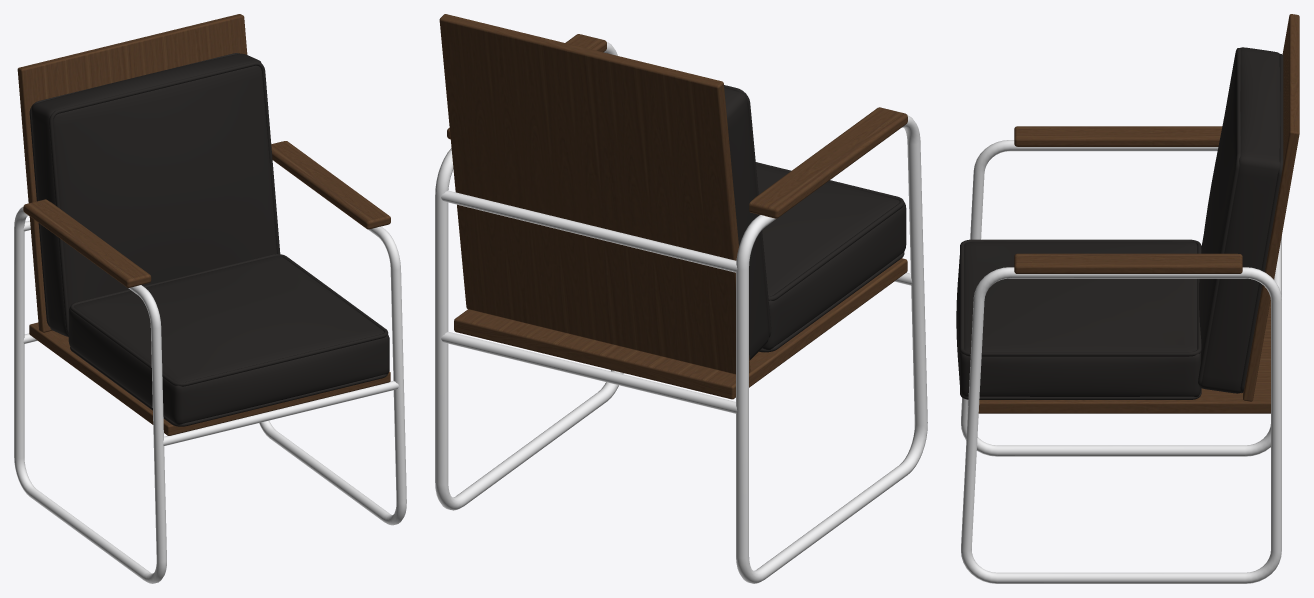
Rendered from desk_chair.gltf.
3 renders of one model, left to right at view 1: azimuth 30°, elevation 25°; view 2: azimuth 150°, elevation 25°; view 3: azimuth 270°, elevation 25°, orthographic. The views are drawn at different scales.
Visible parts, largest first — view 1: DeskChair_BackCushion, DeskChair_SeatCushion, DeskChair_BackPanel, DeskChair_Frame_L, DeskChair_Frame_R, DeskChair_SeatBoard, DeskChair_ArmCap_L, DeskChair_ArmCap_R, DeskChair_BackCushion_Piping1, DeskChair_SeatCushion_Piping0, DeskChair_RailFront, DeskChair_SeatCushion_Piping1 (+1 smaller); view 2: DeskChair_BackPanel, DeskChair_SeatCushion, DeskChair_Frame_L, DeskChair_SeatBoard, DeskChair_Frame_R, DeskChair_ArmCap_L, DeskChair_BackCushion, DeskChair_RailBack, DeskChair_RailRear, DeskChair_SeatCushion_Piping0, DeskChair_BackCushion_Piping1, DeskChair_SeatCushion_Piping1; view 3: DeskChair_SeatCushion, DeskChair_BackCushion, DeskChair_Frame_R, DeskChair_Frame_L, DeskChair_SeatBoard, DeskChair_BackPanel, DeskChair_ArmCap_R, DeskChair_ArmCap_L, DeskChair_SeatCushion_Piping0, DeskChair_BackCushion_Piping1, DeskChair_BackCushion_Piping0, DeskChair_SeatCushion_Piping1.
Boxes of the visible parts, x1,y1,x2,y2 form: DeskChair_BackCushion: [31, 53, 276, 336]; DeskChair_SeatCushion: [68, 256, 389, 424]; DeskChair_BackPanel: [17, 14, 247, 332]; DeskChair_Frame_L: [14, 206, 166, 583]; DeskChair_Frame_R: [259, 226, 406, 525]; DeskChair_SeatBoard: [29, 322, 390, 435]; DeskChair_ArmCap_L: [23, 199, 151, 287]; DeskChair_ArmCap_R: [271, 141, 390, 229]; DeskChair_BackCushion_Piping1: [49, 61, 280, 334]; DeskChair_SeatCushion_Piping0: [70, 254, 388, 386]; DeskChair_RailFront: [163, 380, 399, 445]; DeskChair_SeatCushion_Piping1: [70, 347, 387, 426]; DeskChair_BackPanel: [439, 14, 750, 374]; DeskChair_SeatCushion: [756, 164, 906, 349]; DeskChair_Frame_L: [736, 115, 927, 583]; DeskChair_SeatBoard: [454, 258, 907, 399]; DeskChair_Frame_R: [435, 42, 623, 510]; DeskChair_ArmCap_L: [749, 107, 907, 218]; DeskChair_BackCushion: [724, 88, 768, 360]; DeskChair_RailBack: [441, 190, 737, 272]; DeskChair_RailRear: [441, 331, 737, 413]; DeskChair_SeatCushion_Piping0: [755, 162, 904, 300]; DeskChair_BackCushion_Piping1: [724, 85, 771, 337]; DeskChair_SeatCushion_Piping1: [759, 252, 904, 352]; DeskChair_SeatCushion: [956, 241, 1200, 396]; DeskChair_BackCushion: [1199, 47, 1280, 393]; DeskChair_Frame_R: [961, 267, 1281, 583]; DeskChair_Frame_L: [961, 140, 1281, 456]; DeskChair_SeatBoard: [978, 300, 1270, 413]; DeskChair_BackPanel: [1243, 14, 1299, 401]; DeskChair_ArmCap_R: [1014, 253, 1242, 273]; DeskChair_ArmCap_L: [1014, 126, 1222, 146]; DeskChair_SeatCushion_Piping0: [960, 239, 1201, 356]; DeskChair_BackCushion_Piping1: [1198, 48, 1240, 385]; DeskChair_BackCushion_Piping0: [1240, 54, 1283, 393]; DeskChair_SeatCushion_Piping1: [960, 388, 1201, 399].
Size of the model in its own units: 0.64 by 0.9497 by 0.6609.
Materials: 3 (1 with a texture image).
